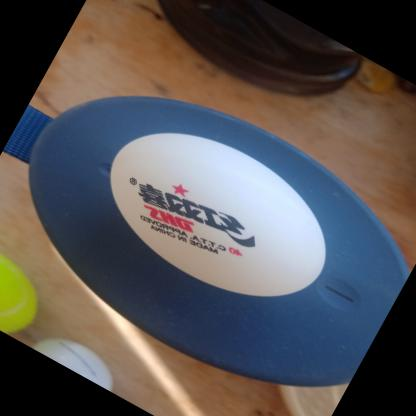Tabel Tennis: (75, 94, 361, 336)
